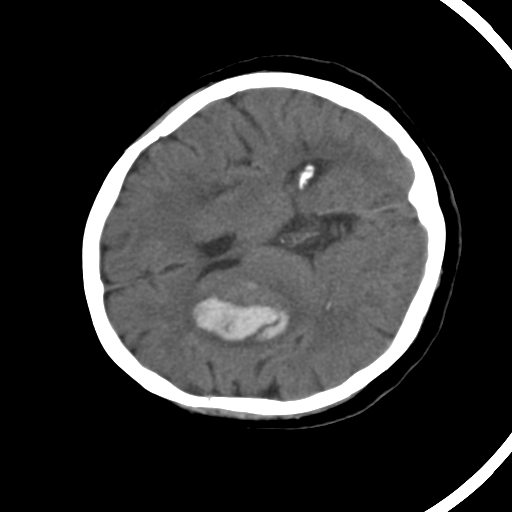a: (175, 287, 301, 357)
